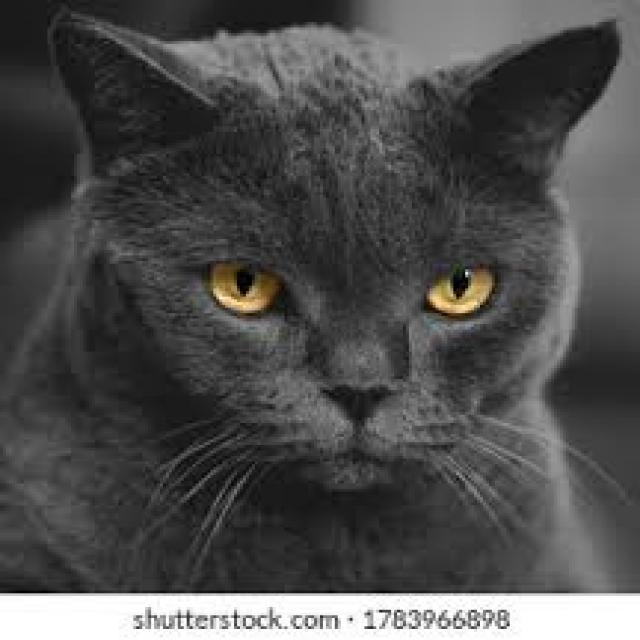Cat: (6, 6, 634, 592)
